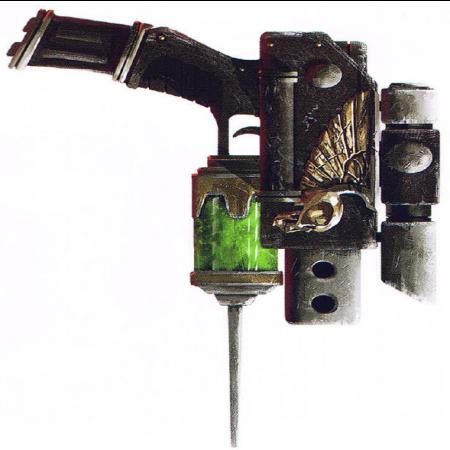Pistol: (10, 22, 438, 319)
